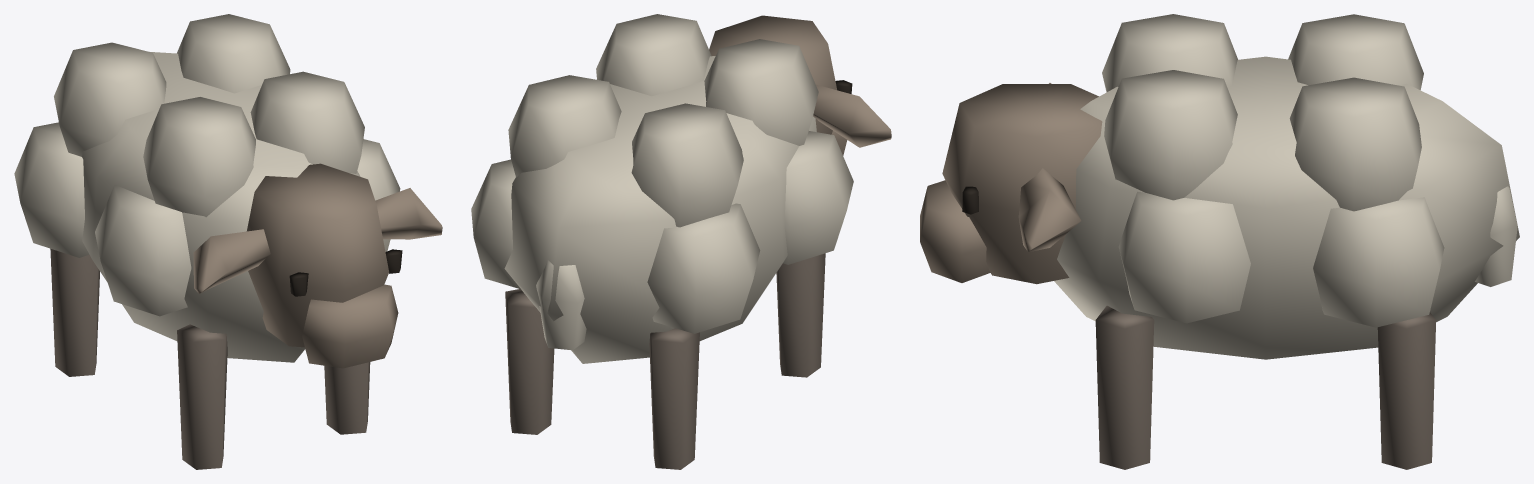
The model's file is pecora.glb.
3 views of the same model, side by side, from view 1: azimuth 30°, elevation 25°; view 2: azimuth 150°, elevation 25°; view 3: azimuth 270°, elevation 25° (orthographic). The views are drawn at different scales.
Bounding box in the file's own units: 0.8715 × 0.9 × 1.36.
